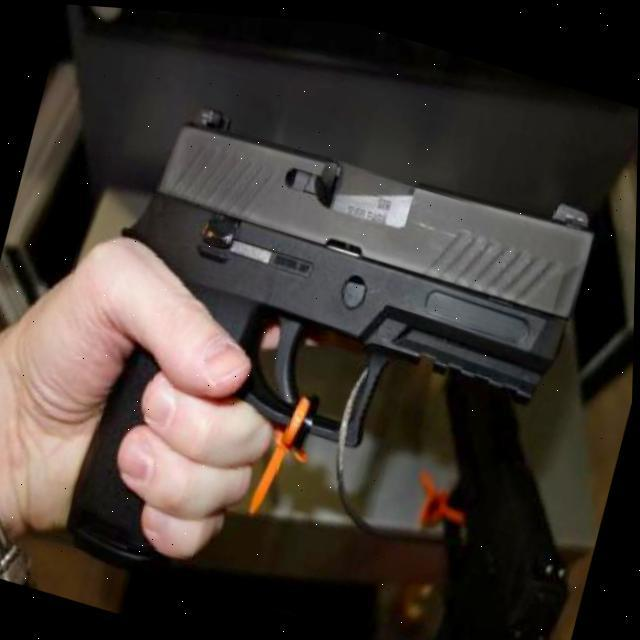gun: (39, 68, 607, 640)
